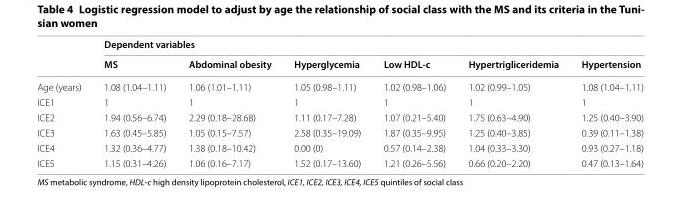table: (36, 37, 642, 168)
table column: (456, 37, 569, 168), (176, 37, 281, 168), (281, 37, 371, 168), (91, 37, 176, 168), (371, 37, 456, 168), (569, 37, 642, 168), (36, 37, 91, 168)
table column header: (36, 37, 642, 75)
table row: (36, 53, 642, 75), (36, 75, 642, 94), (36, 37, 642, 53), (36, 139, 642, 155), (36, 94, 642, 109), (36, 109, 642, 124), (36, 124, 642, 139), (36, 155, 642, 168)
table spanning cell: (91, 37, 642, 53)
